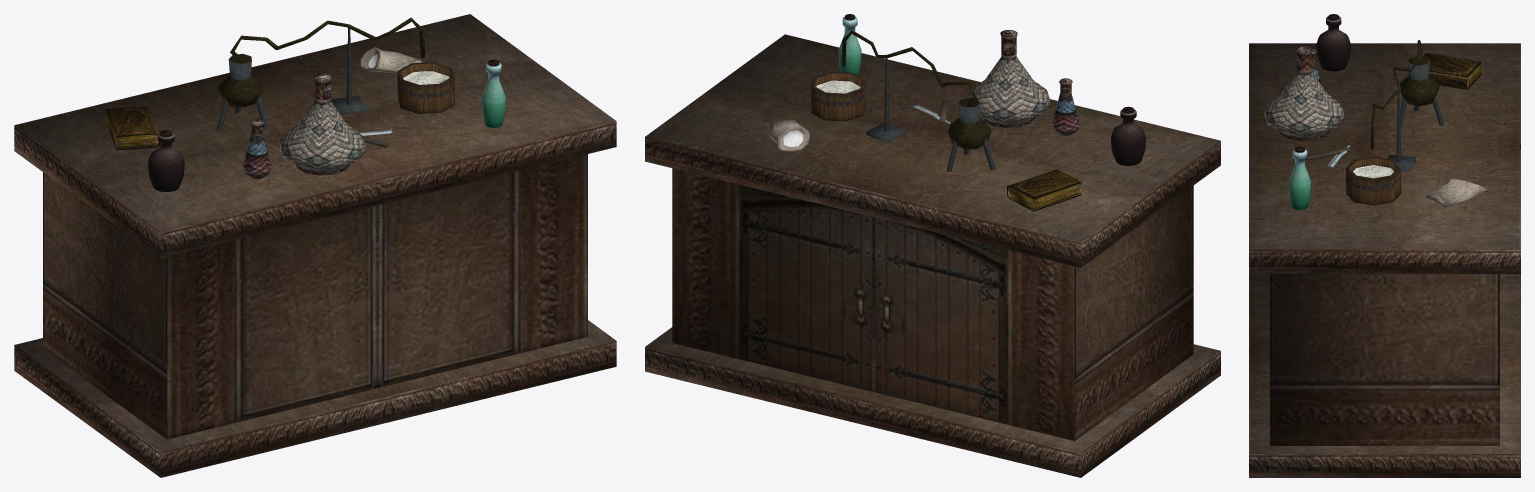
File: ITHC_LAB.glb
3 renders of one model, left to right at view 1: azimuth 30°, elevation 25°; view 2: azimuth 150°, elevation 25°; view 3: azimuth 270°, elevation 25°, orthographic. The views are drawn at different scales.
Visible parts, largest first — view 1: Mesh; view 2: Mesh; view 3: Mesh.
Part boxes in pixels (box(x1,y1,x2,y2)): Mesh: box(14, 14, 616, 477); Mesh: box(645, 14, 1220, 477); Mesh: box(1249, 14, 1520, 477).
Bounding box in the file's own units: 1.83 × 1.31 × 1.02.
Materials: 11 (11 with a texture image).
